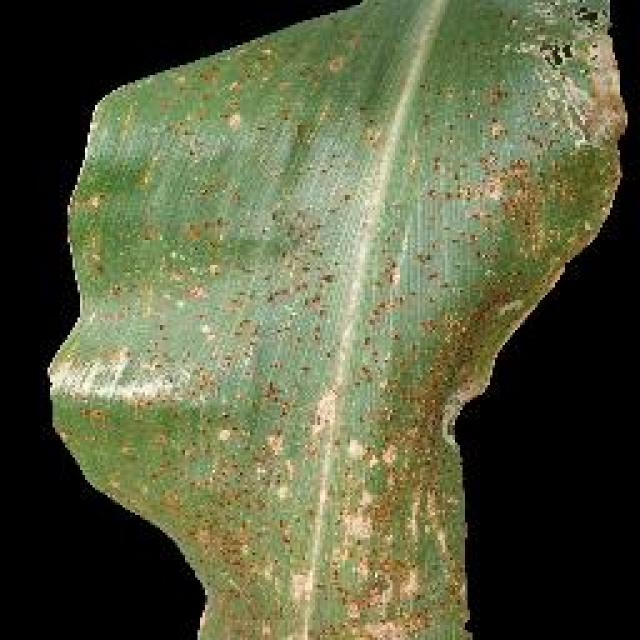Corn Common Rust: (125, 51, 503, 562)
